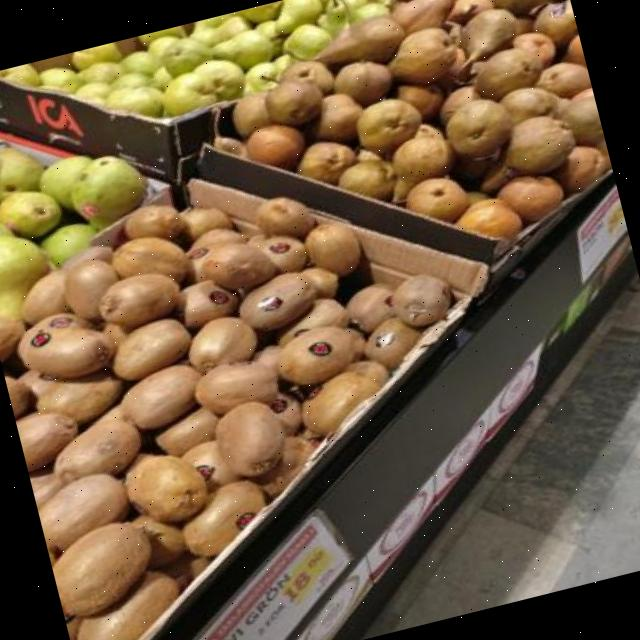kiwi: (52, 522, 151, 617), (77, 571, 179, 640), (38, 474, 129, 551), (17, 314, 114, 378), (183, 480, 266, 553), (54, 419, 139, 482), (215, 401, 285, 477), (126, 456, 206, 522), (120, 364, 201, 428), (303, 371, 380, 435), (238, 272, 317, 330), (37, 371, 122, 424), (99, 273, 179, 329), (277, 327, 354, 385), (115, 318, 189, 378), (195, 361, 278, 414), (15, 412, 78, 471), (190, 317, 256, 371), (202, 243, 276, 290), (111, 236, 189, 280), (64, 259, 118, 320), (278, 298, 346, 344), (305, 222, 361, 277), (392, 273, 449, 327), (155, 407, 219, 454), (130, 515, 187, 567), (363, 317, 420, 368), (20, 269, 70, 323), (181, 280, 240, 325), (183, 441, 240, 487), (254, 196, 316, 237), (346, 282, 395, 332), (124, 204, 183, 239), (259, 235, 308, 273), (180, 207, 233, 239), (270, 392, 302, 433), (29, 472, 64, 508), (300, 266, 338, 297), (189, 228, 245, 249), (5, 375, 30, 417)
